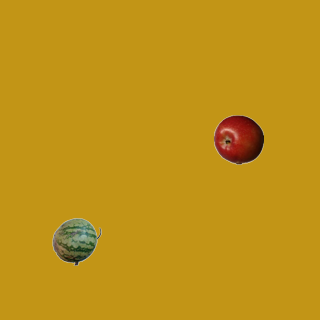Apple Braeburn: (213, 114, 263, 164)
Watermelon: (51, 216, 101, 266)
